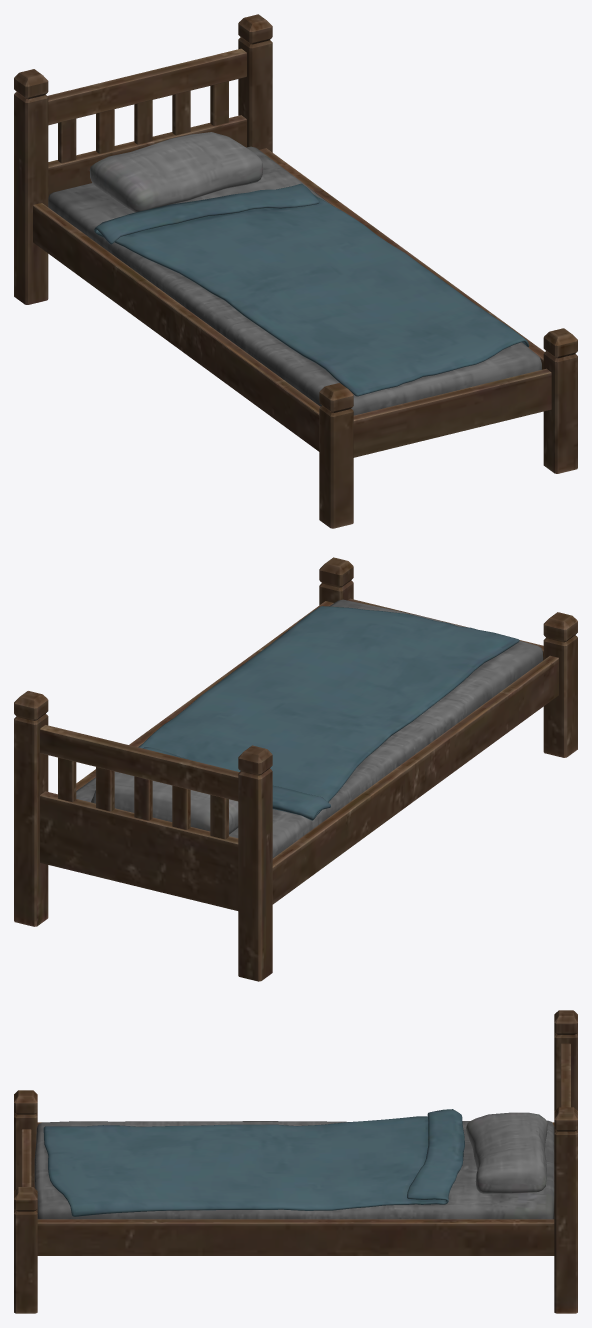
Rendered from scene-bed.glb.
The picture shows the model from 3 angles, top to bottom: view 1: azimuth 30°, elevation 25°; view 2: azimuth 150°, elevation 25°; view 3: azimuth 270°, elevation 25°; orthographic projection. The views are drawn at different scales.
Parts seen in each view (by area): view 1: Bed_DefaultMaterial_0; view 2: Bed_DefaultMaterial_0; view 3: Bed_DefaultMaterial_0.
Part boxes in pixels (x1=…): Bed_DefaultMaterial_0: x1=14, y1=14, x2=577, y2=528; Bed_DefaultMaterial_0: x1=14, y1=557, x2=577, y2=981; Bed_DefaultMaterial_0: x1=14, y1=1010, x2=577, y2=1313.
Size of the model in its own units: 0.9406 by 0.8155 by 2.1.
1 material, 1 textured.
